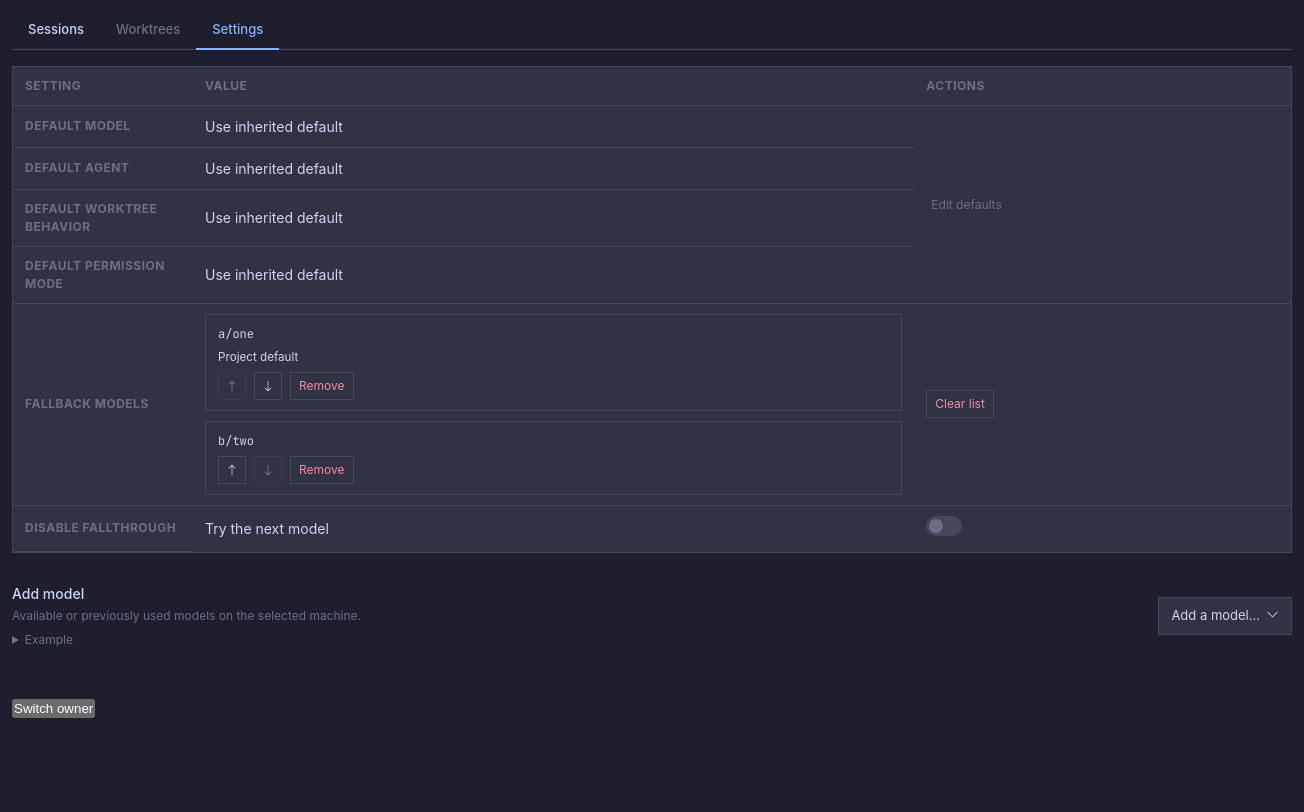
Scenario: ProjectSettingsView › blocks overlapping model edits while a save is pending
What coordinates should you click on to do the following:
click the button named "Move b/two up"
I would click on:
 (232, 470)
Its box is [218,456,246,484].
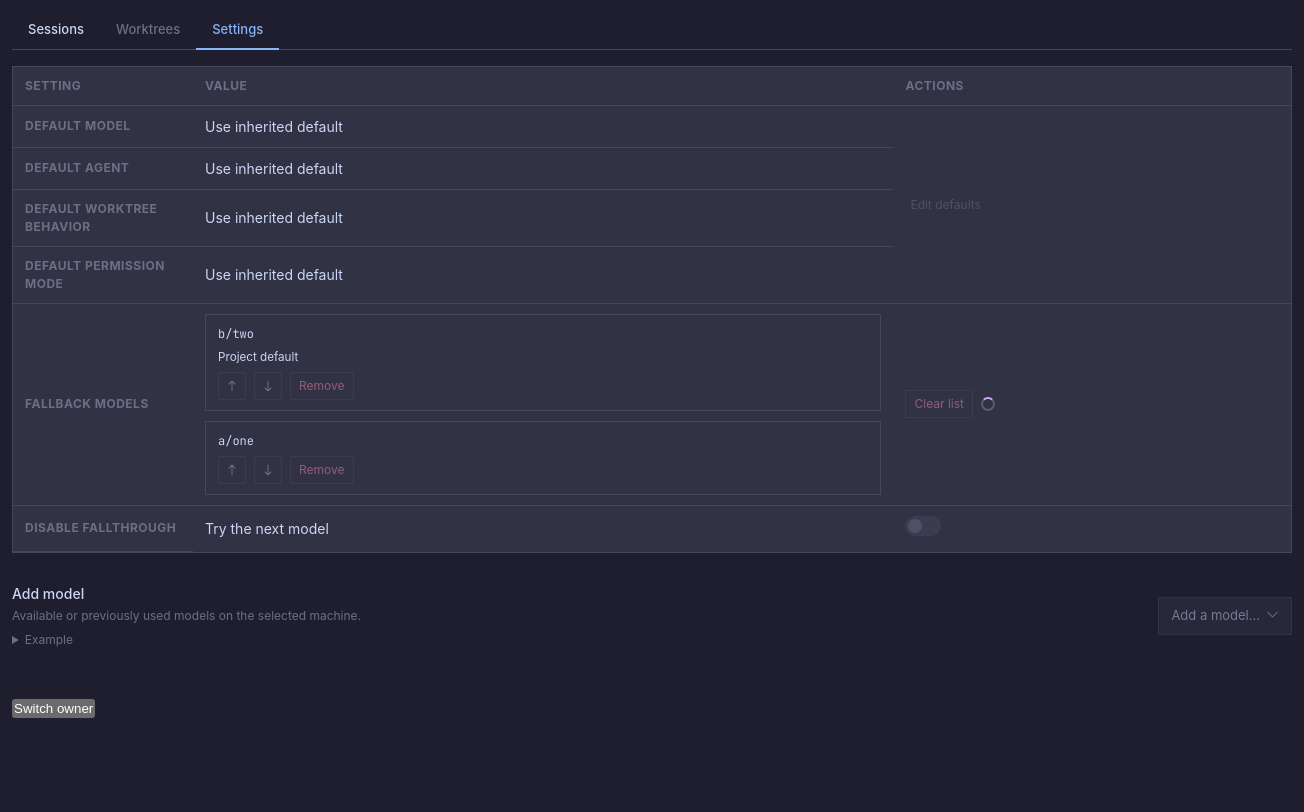
Result: the button "Clear list" is disabled
Result: the button with aria-label "Remove a/one" is disabled at [290,456,354,484]
Result: the dropdown named "Add model" is disabled at [1158,596,1292,634]
What coordinates should you click on to do the following:
click the button "Clear list"
I would click on:
 (939, 404)
Its box is [906,390,973,418].
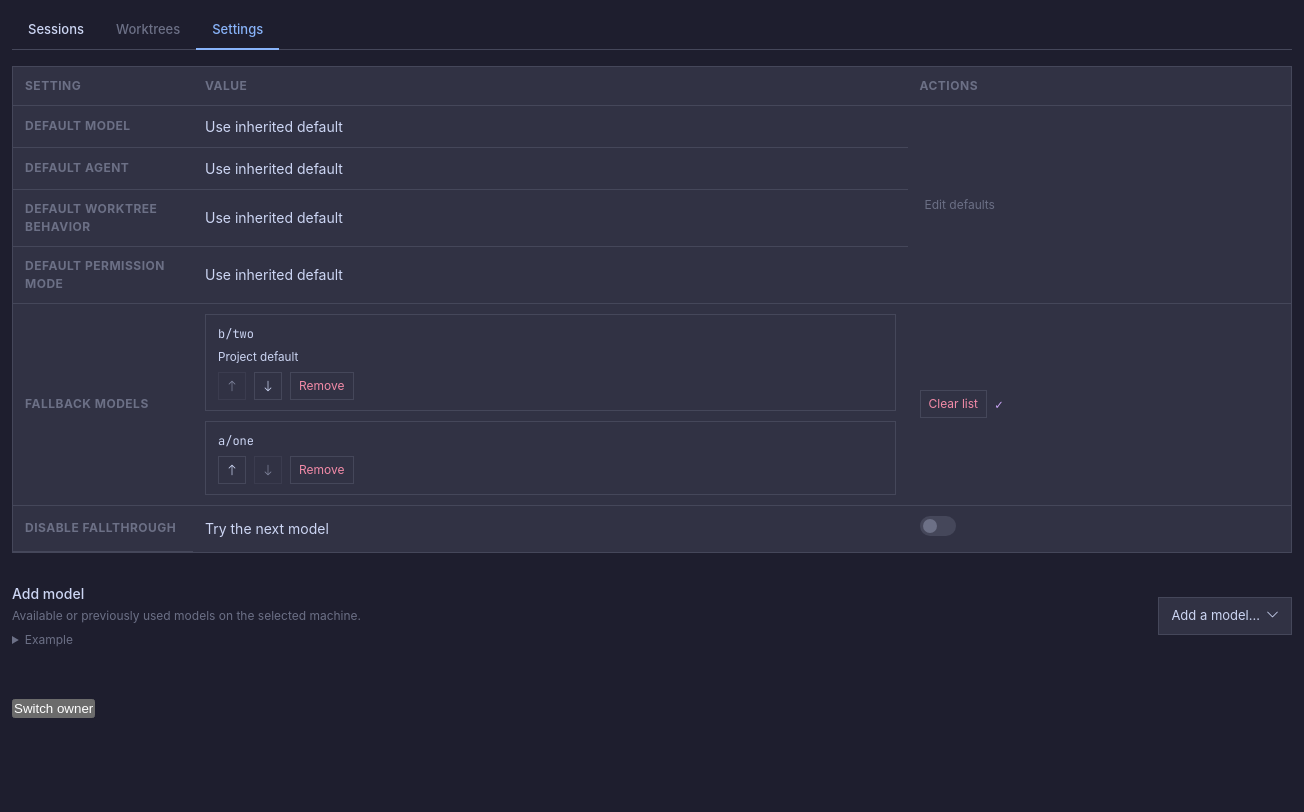
Result: the button "Clear list" is enabled at [920,390,987,418]
